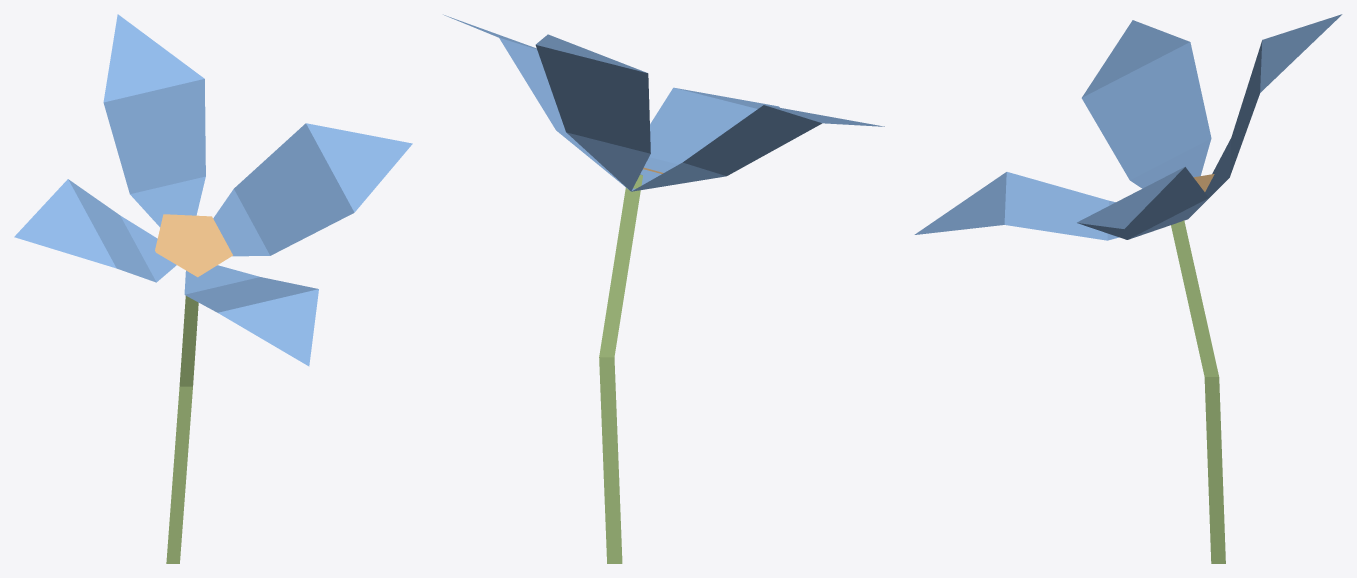
File: Flower_a_TwoS_03.fbx
3 renders of one model, left to right at view 1: azimuth 30°, elevation 25°; view 2: azimuth 150°, elevation 25°; view 3: azimuth 270°, elevation 25°, orthographic. The views are drawn at different scales.
Visible parts, largest first — view 1: Flower_a_TwoS_03; view 2: Flower_a_TwoS_03; view 3: Flower_a_TwoS_03.
Part boxes in pixels (x1,y1,x2,y2): Flower_a_TwoS_03: [14, 14, 412, 563]; Flower_a_TwoS_03: [443, 14, 884, 563]; Flower_a_TwoS_03: [914, 14, 1342, 563].
Size of the model in its own units: 58.33 by 71.41 by 50.54.
